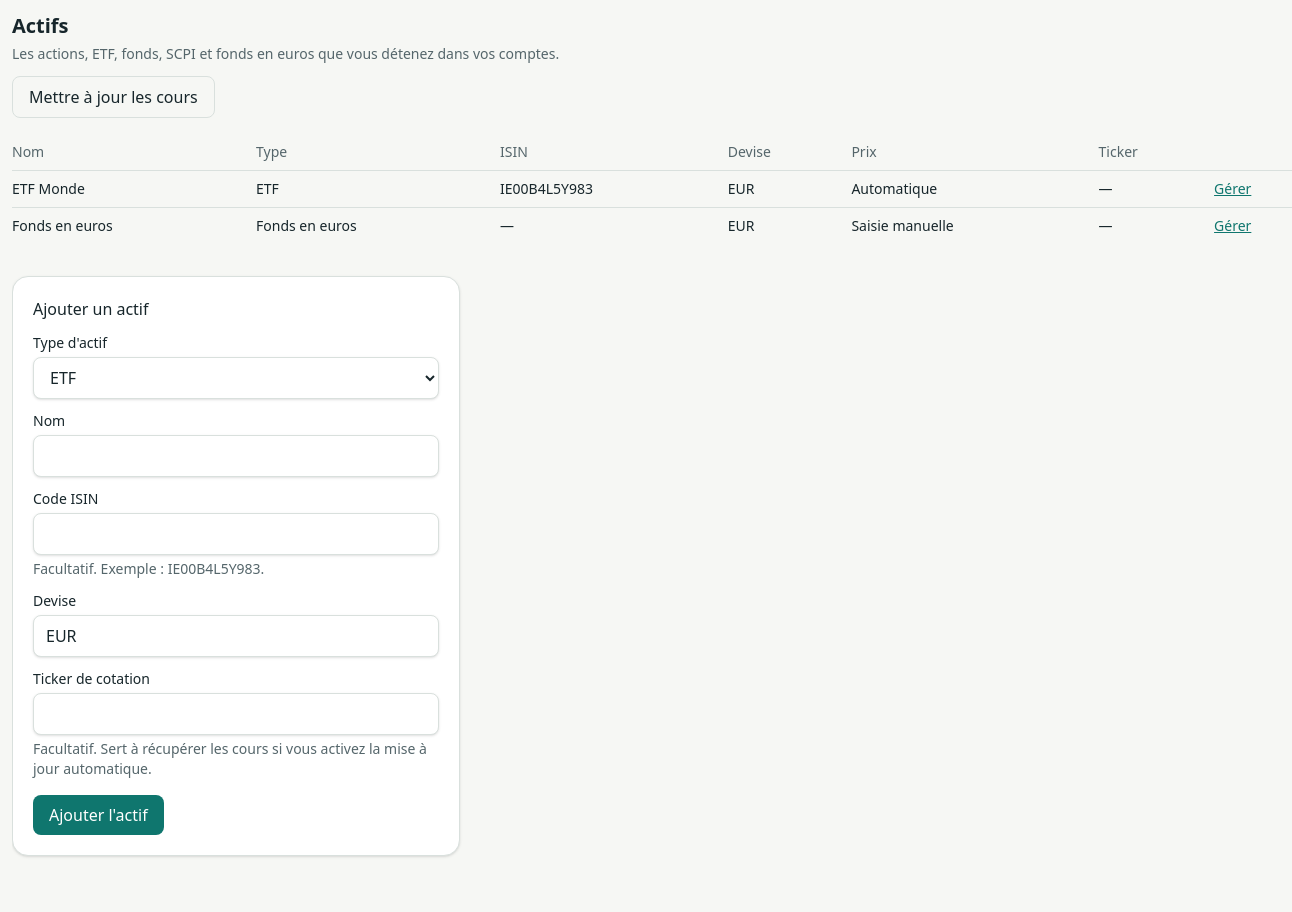
création › refuse un ISIN mal formé avant tout appel
Check: the table named "Actifs" is shown, box 12,134 -> 1291,244
Step 1. Select "ETF" in the dropdown labelled "Type d'actif" → {"x": 236, "y": 378}, box 33,357 -> 439,399
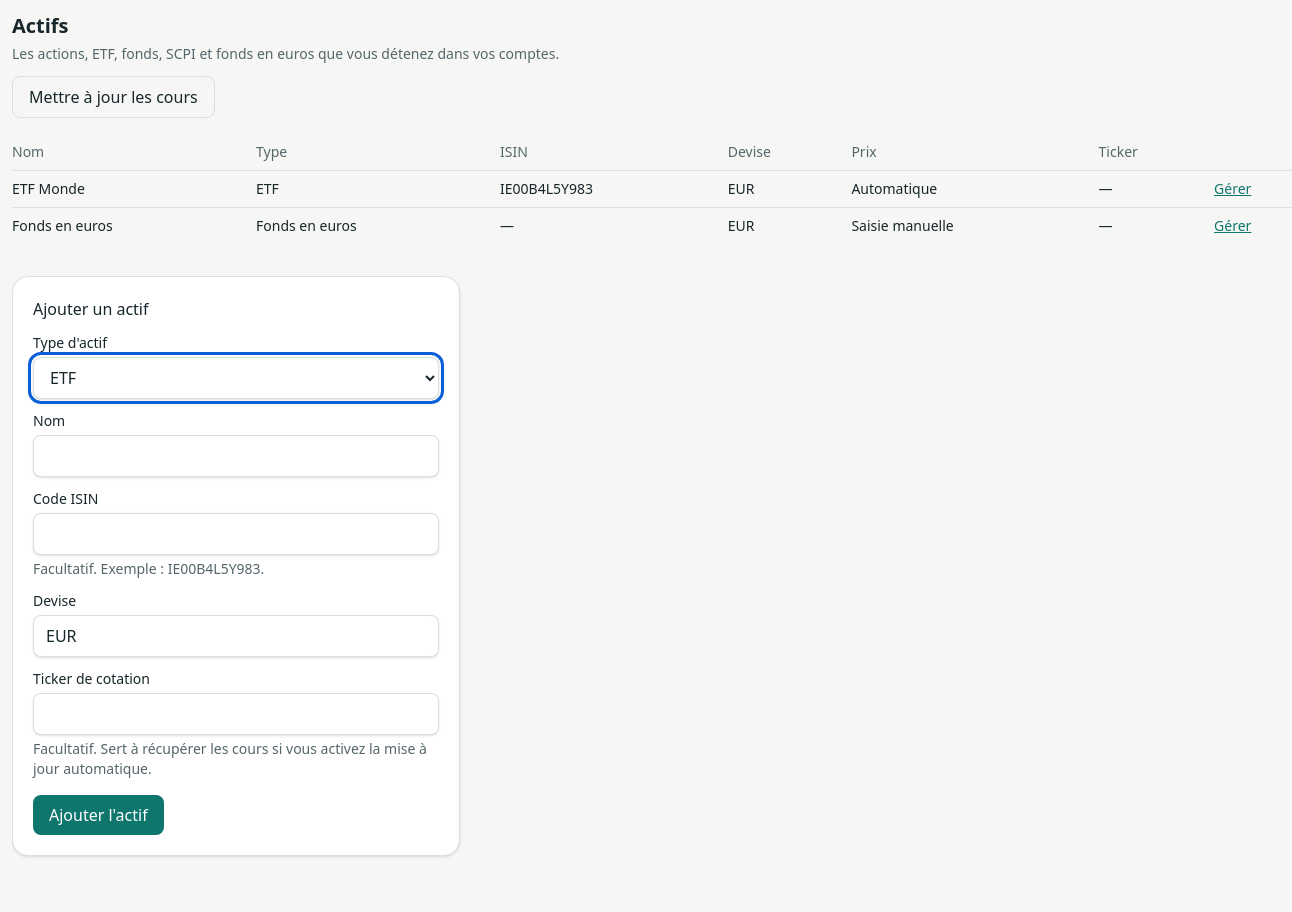
Step 2. Type "ETF Europe" into the field labelled "Nom" → {"x": 236, "y": 456}, box 33,435 -> 439,477
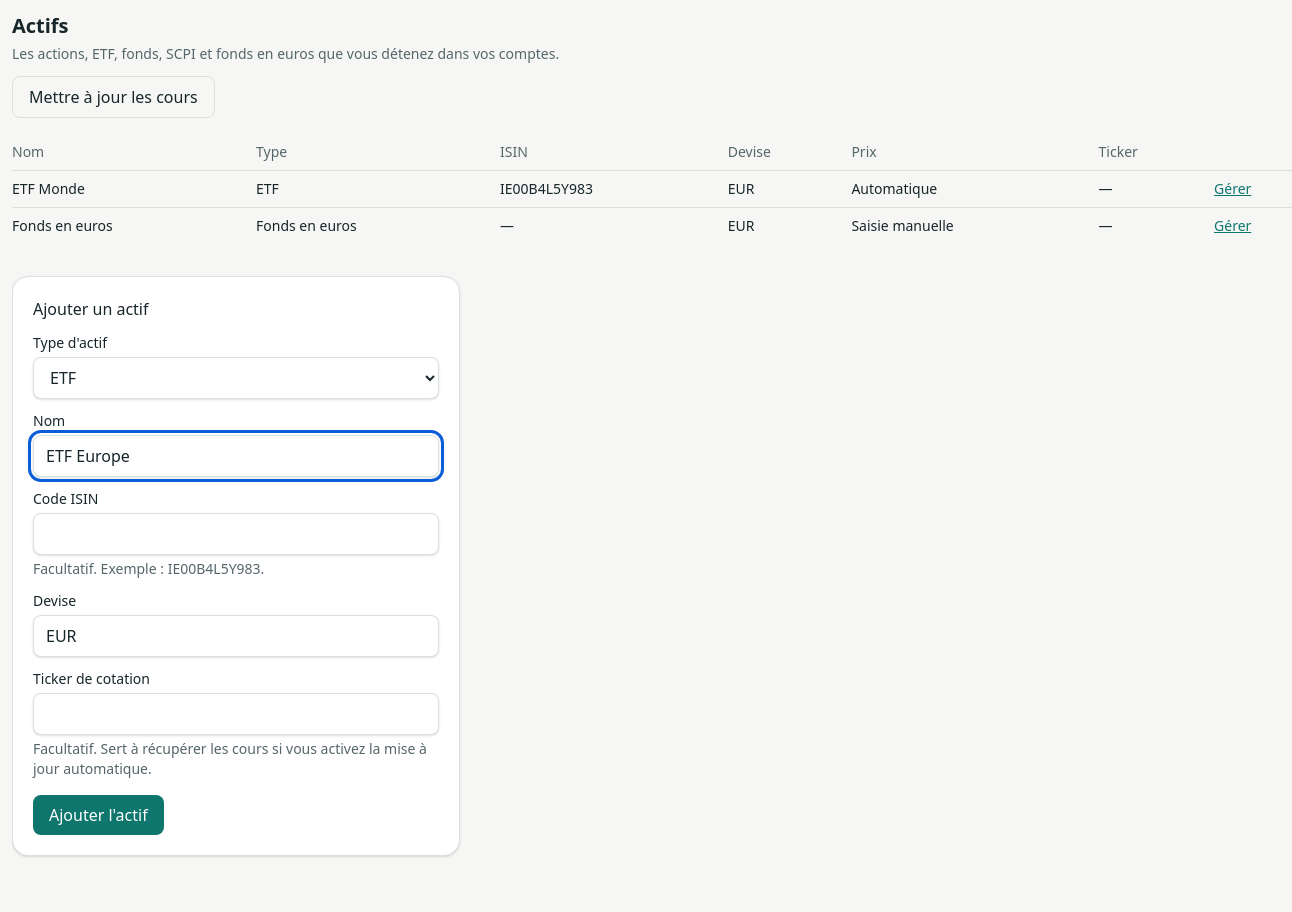
Step 3. Type "IE00" into the field labelled "Code ISIN" → {"x": 236, "y": 534}, box 33,513 -> 439,555
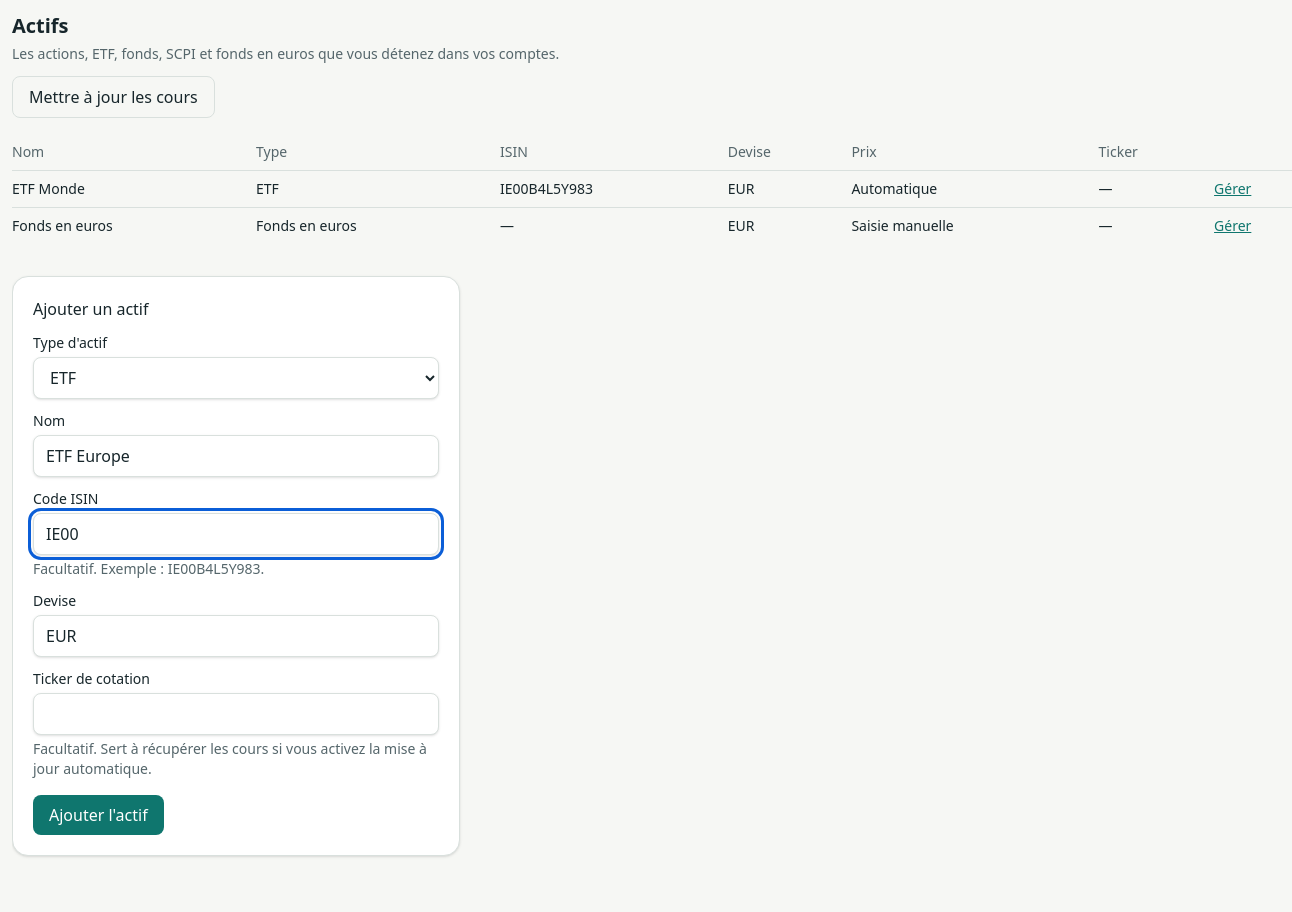
Step 4. Click the button "Ajouter l'actif" → {"x": 98, "y": 815}, box 33,795 -> 164,835
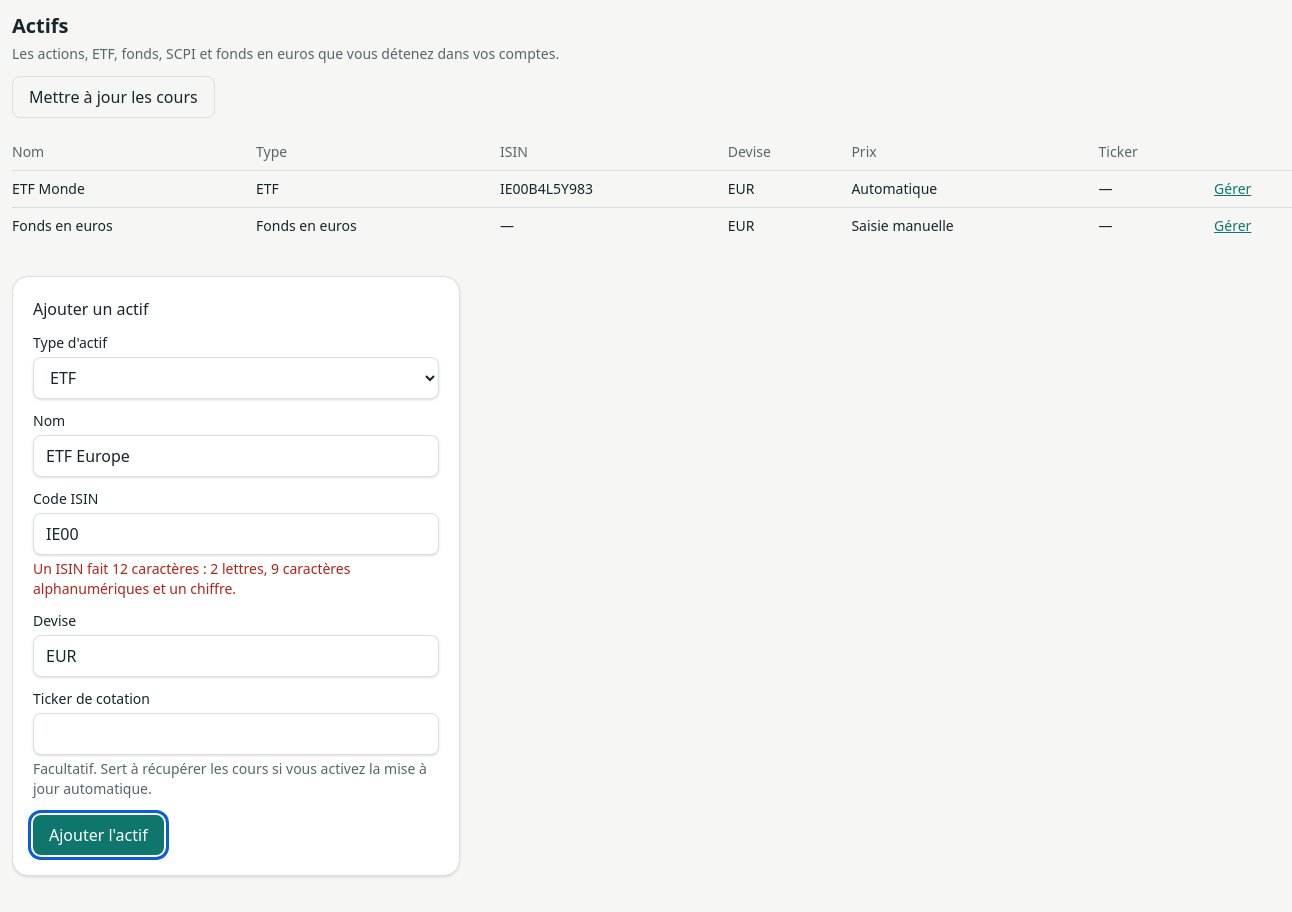
Check: the text "Un ISIN fait 12 caractères" is shown, box 33,559 -> 350,598
